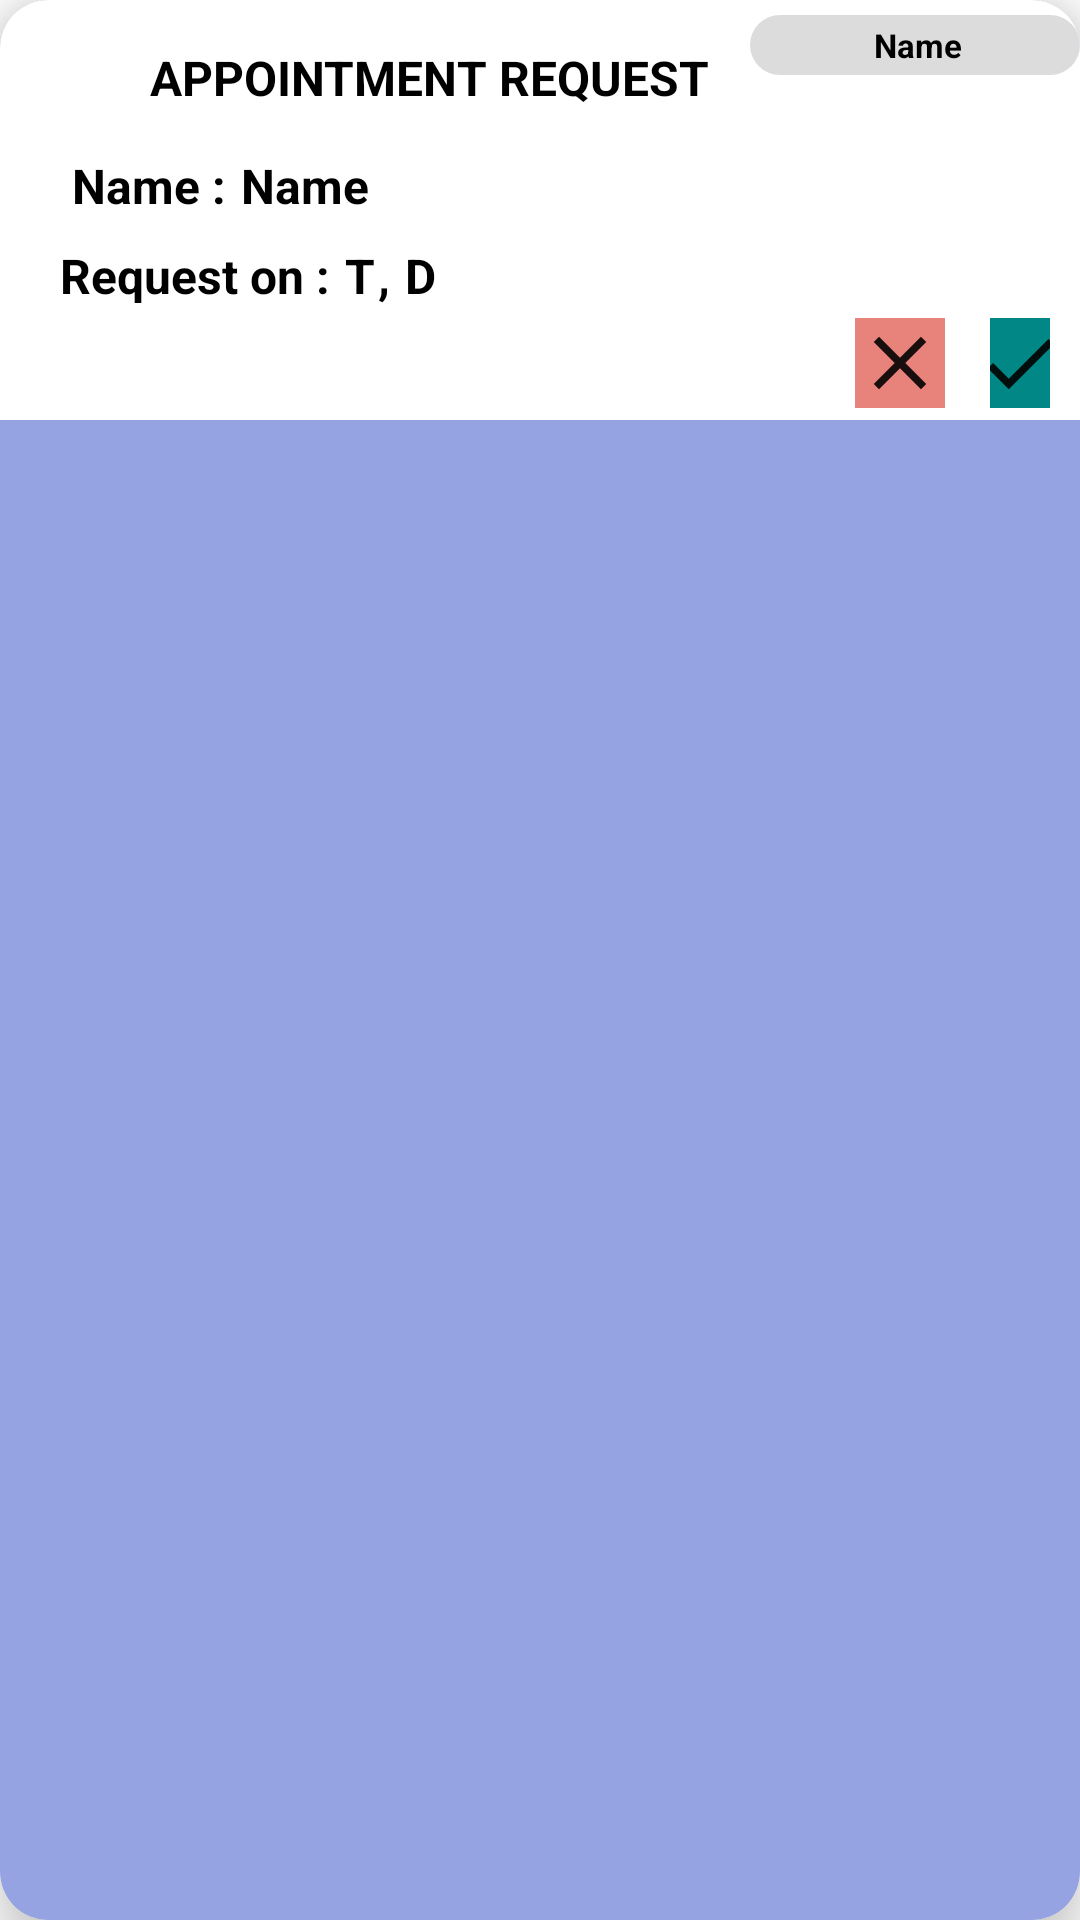

Named icons in this screenshot (1080x1920) and their bounding boxes, (x1=x1, y1=y1, x2=x2, y2=y2):
check: (x1=990, y1=318, x2=1050, y2=408)
